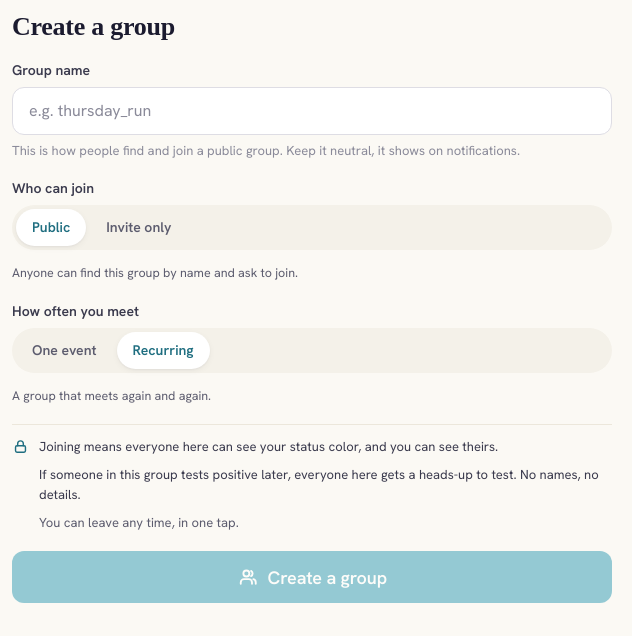
Scenario: GroupCreate › error: keeps the form and shows the create error
The width and height of the screenshot is (632, 636).
Type "thursday_run" into the field labelled "Group name".
click(312, 111); type("thursday_run")  # box [12,87,612,135]
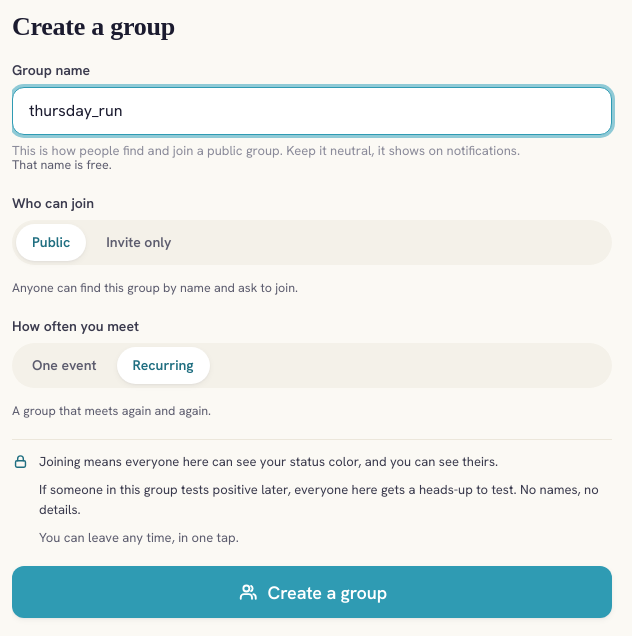
Expected: the text "That name is free." is shown, [12,156,112,173]
Click the button "Create a group".
click(312, 592)  # box [12,566,612,618]
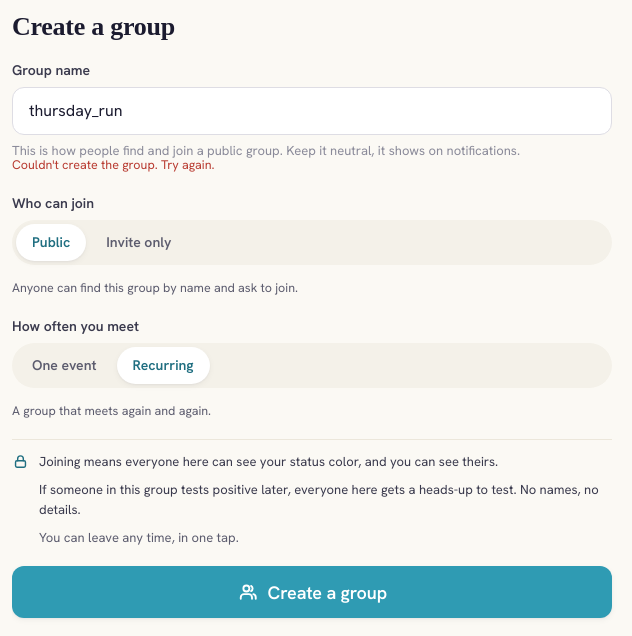
Expected: the text "Couldn't create the group. Try again." is shown, [12,156,214,173]
